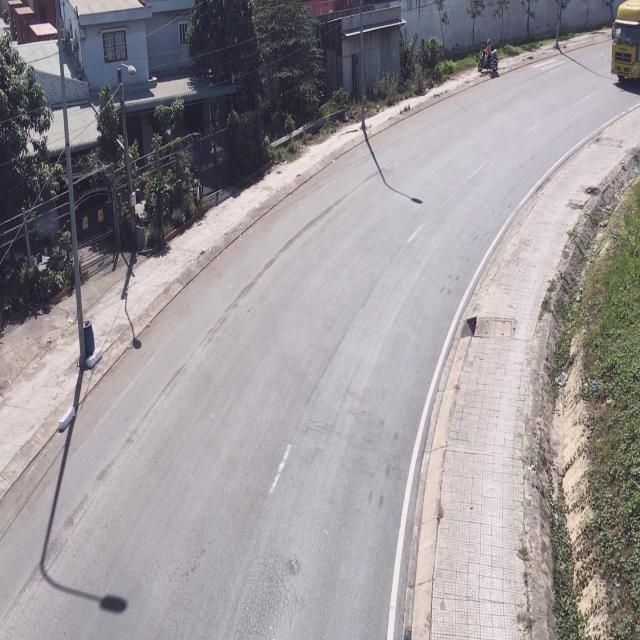motorbike: (476, 39, 500, 74)
truck: (613, 0, 640, 94)
